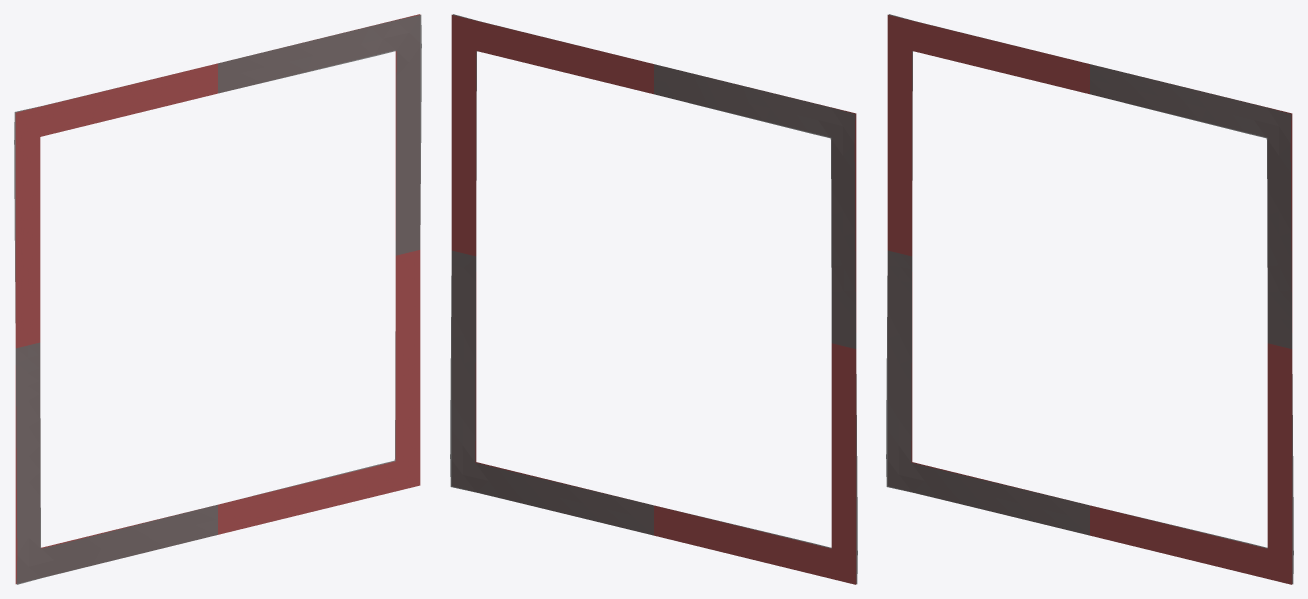
Rendered from warping-box-147-132-9-8-219.glb.
3 views of the same model, side by side, from view 1: azimuth 30°, elevation 25°; view 2: azimuth 150°, elevation 25°; view 3: azimuth 330°, elevation 25° (orthographic).
Parts seen in each view (by area): view 1: undeformed cross-section, cross-section with warping; view 2: undeformed cross-section, cross-section with warping; view 3: undeformed cross-section, cross-section with warping.
Boxes of the visible parts, x1,y1,x2,y2 form: undeformed cross-section: [15, 14, 420, 583]; cross-section with warping: [14, 15, 421, 584]; undeformed cross-section: [451, 15, 856, 584]; cross-section with warping: [450, 14, 857, 583]; undeformed cross-section: [887, 15, 1292, 584]; cross-section with warping: [886, 14, 1293, 583].
Bounding box in the file's own units: 0.132 × 0.147 × 0.00175.
